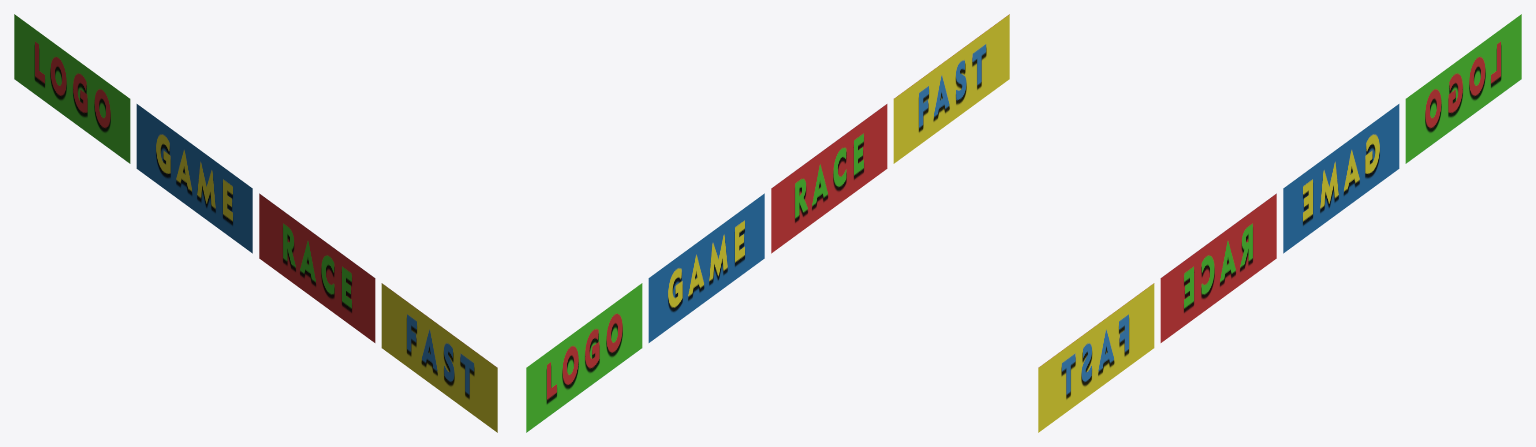
The model's file is Track_tribune_02_banner_combined.fbx.
The picture shows the model from 3 angles, left to right: view 1: azimuth 30°, elevation 25°; view 2: azimuth 150°, elevation 25°; view 3: azimuth 330°, elevation 25°; orthographic projection.
Visible parts, largest first — view 1: Track_tribune_02_banner_combined; view 2: Track_tribune_02_banner_combined; view 3: Track_tribune_02_banner_combined.
Boxes of the visible parts, x1,y1,x2,y2 form: Track_tribune_02_banner_combined: (14, 14, 497, 432); Track_tribune_02_banner_combined: (526, 14, 1009, 432); Track_tribune_02_banner_combined: (1038, 14, 1521, 432).
Size of the model in its own units: 0 by 110 by 1480.
